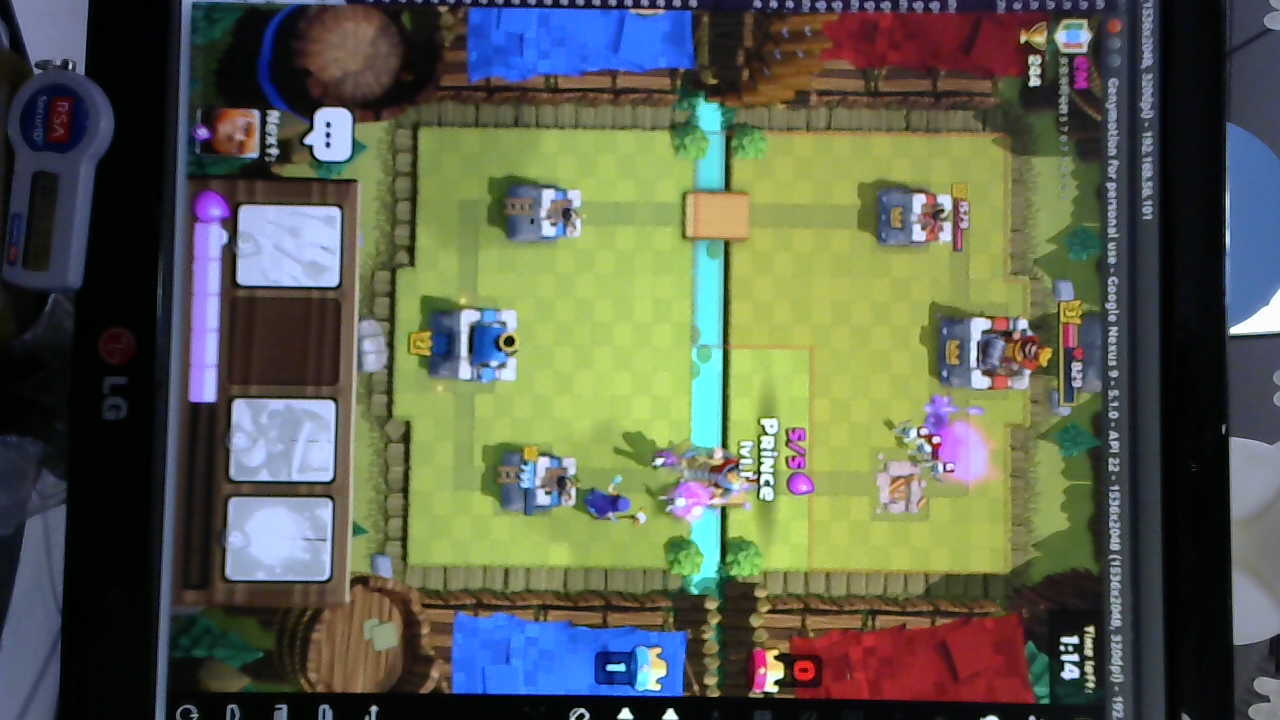arena: (496, 450, 583, 514), (506, 180, 586, 244)
darena: (875, 459, 926, 521)
earena: (880, 187, 958, 250)
eking: (942, 315, 1054, 391)
king: (433, 302, 524, 386)
knight: (708, 455, 752, 501)
prince: (650, 434, 723, 480)
skeleton: (900, 420, 954, 479)
witch: (575, 482, 643, 525)
